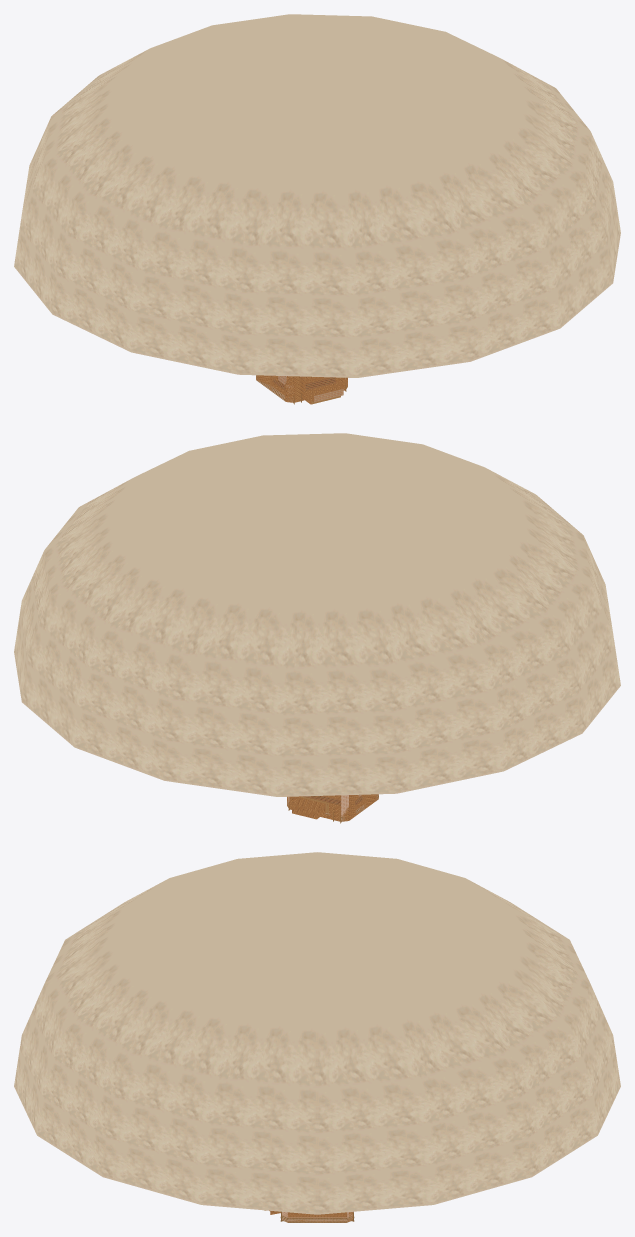
Rendered from WildCanyon2P.obj.
3 views of the same model, one above another, from view 1: azimuth 30°, elevation 25°; view 2: azimuth 150°, elevation 25°; view 3: azimuth 270°, elevation 25° (orthographic).
Size of the model in its own units: 5132 by 3035 by 5132.
Materials: 31 (31 with a texture image).
